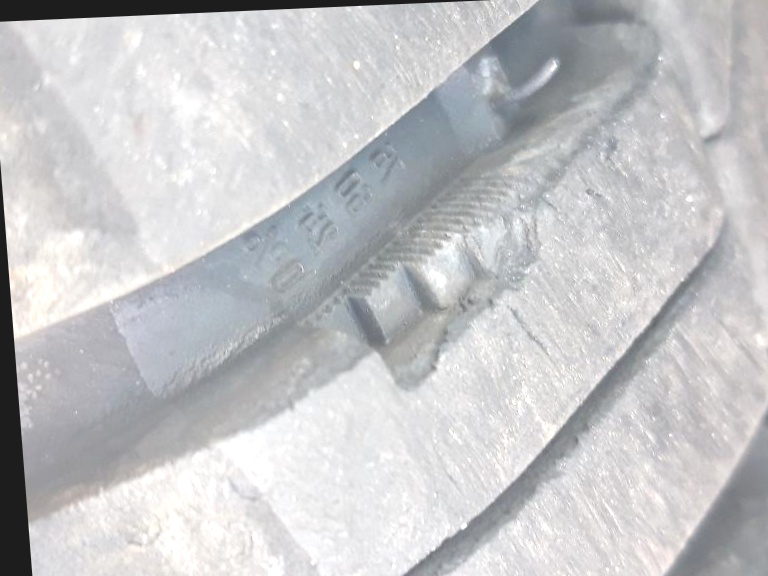temoin:80: (270, 161, 593, 410)
